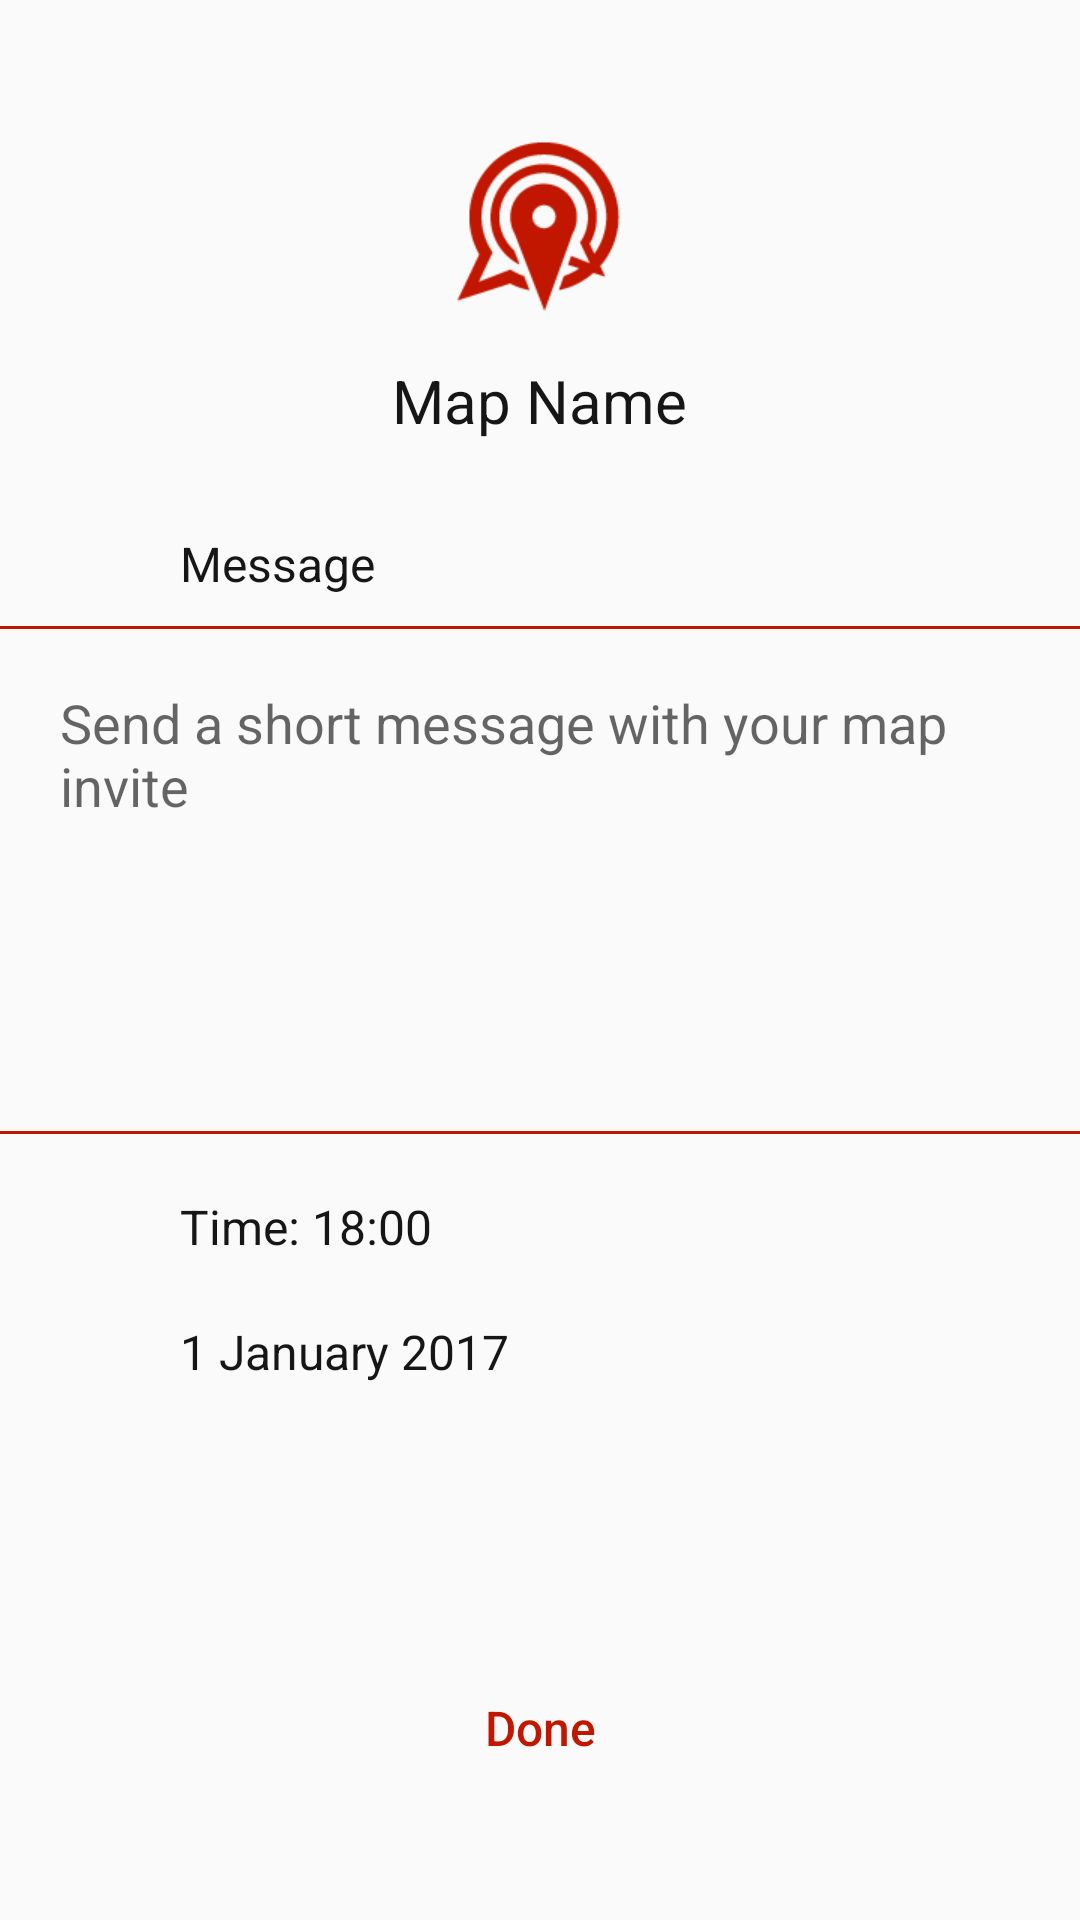

Named icons in this screenshot (1080 x 1920) and their bounding boxes, (x1, y1, x2, y2):
Chat Map Icon: (457, 142, 620, 311)
